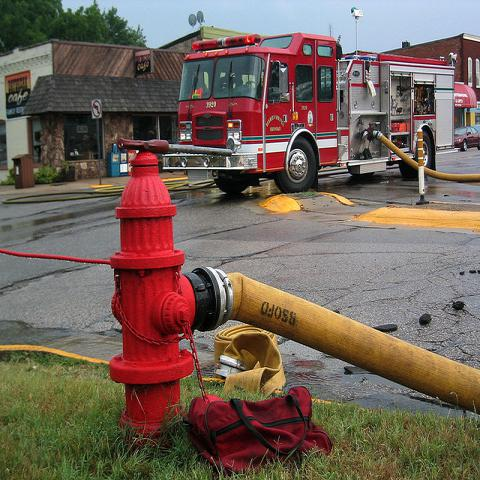car: (454, 127, 480, 152)
truck: (175, 34, 456, 186)
